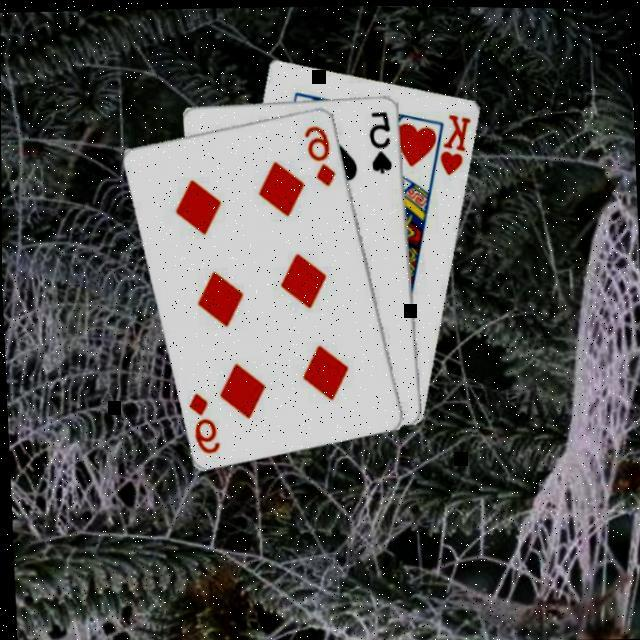5S: (363, 106, 393, 175)
6D: (299, 121, 336, 188), (183, 389, 220, 456)
KH: (433, 110, 473, 177)
